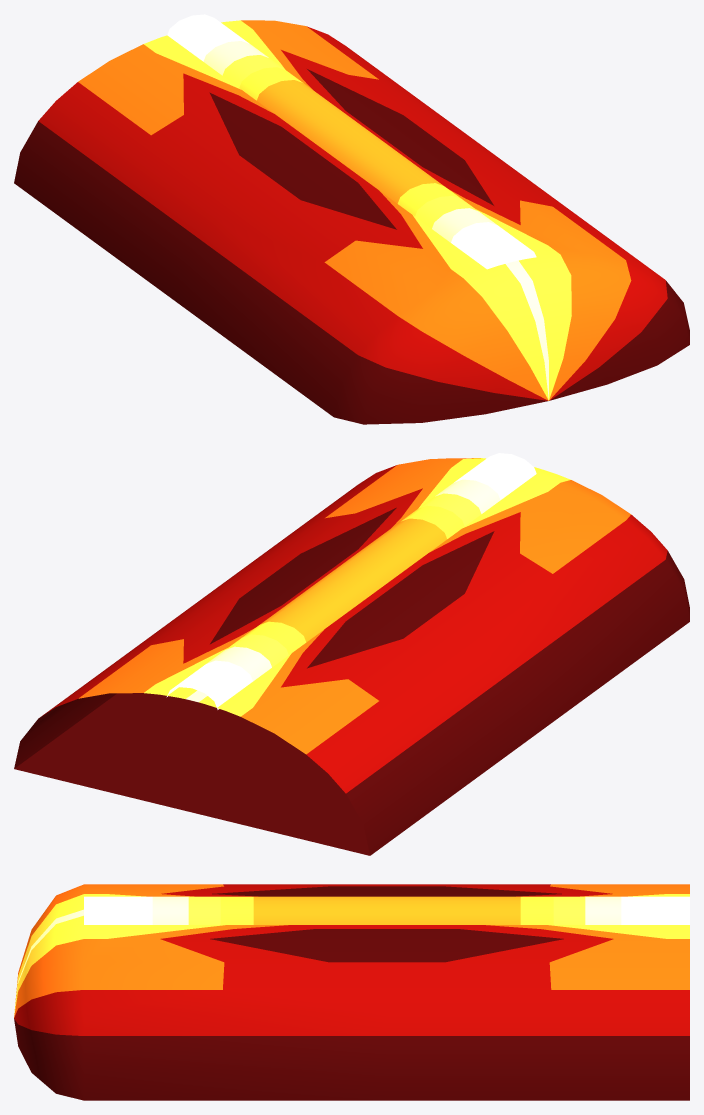
Rendered from shot_laser_288.glb.
3 renders of one model, top to bottom at view 1: azimuth 30°, elevation 25°; view 2: azimuth 150°, elevation 25°; view 3: azimuth 270°, elevation 25°, orthographic. The views are drawn at different scales.
Parts seen in each view (by area): view 1: shot_laser_288_rod, shot_laser_288_core0; view 2: shot_laser_288_rod, shot_laser_288_core0; view 3: shot_laser_288_rod, shot_laser_288_core0.
Part boxes in pixels (left/top/right/bottom): shot_laser_288_rod: left=14, top=20, right=689, bottom=424; shot_laser_288_core0: left=167, top=14, right=536, bottom=269; shot_laser_288_rod: left=14, top=458, right=689, bottom=855; shot_laser_288_core0: left=166, top=453, right=536, bottom=709; shot_laser_288_rod: left=14, top=884, right=689, bottom=1100; shot_laser_288_core0: left=84, top=896, right=689, bottom=924.
Bounding box in the file's own units: 9 × 3 × 15.62.
